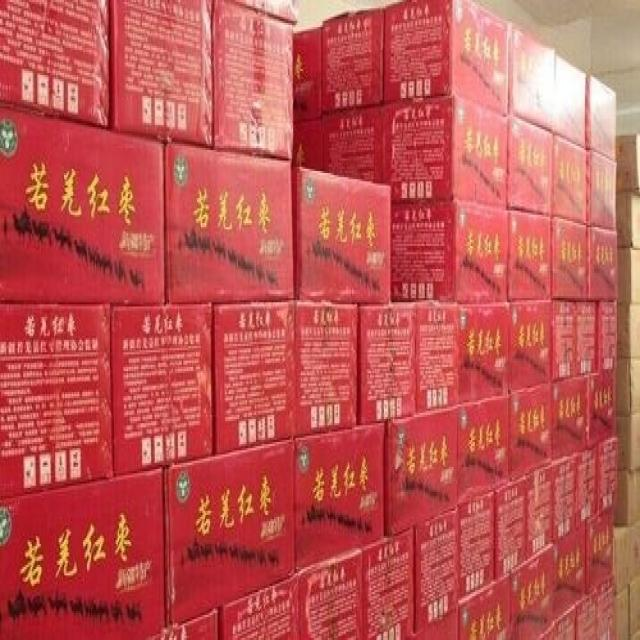box: (1, 106, 165, 304), (168, 440, 296, 630), (0, 304, 114, 500), (166, 144, 294, 302), (111, 304, 211, 475), (110, 2, 212, 146), (384, 2, 511, 115), (384, 98, 508, 211), (1, 0, 109, 127), (296, 423, 387, 571), (293, 169, 392, 302), (214, 2, 293, 161), (214, 300, 296, 450), (393, 204, 509, 302), (388, 407, 458, 534), (297, 300, 360, 436), (360, 302, 416, 423), (323, 10, 384, 113), (362, 527, 415, 640), (300, 550, 364, 638), (416, 507, 460, 634), (458, 400, 509, 504), (219, 575, 300, 638), (460, 304, 508, 407), (416, 302, 460, 411), (511, 25, 556, 131), (508, 117, 554, 215), (324, 108, 384, 183), (509, 384, 553, 486), (509, 300, 552, 396), (508, 208, 552, 300), (458, 492, 495, 600), (512, 546, 554, 640), (494, 477, 527, 584), (554, 525, 588, 623), (460, 575, 511, 640), (553, 375, 588, 463), (553, 138, 588, 225), (554, 56, 586, 148), (294, 27, 323, 123), (553, 221, 588, 300), (526, 467, 552, 559), (588, 77, 616, 161), (589, 507, 616, 594), (552, 454, 577, 544), (588, 369, 617, 446), (550, 302, 577, 384), (589, 227, 618, 302), (589, 154, 617, 229), (577, 442, 599, 532), (150, 613, 219, 640), (617, 523, 640, 592), (577, 302, 598, 375), (598, 438, 618, 511), (293, 121, 321, 171), (598, 304, 618, 371), (596, 577, 617, 640), (617, 133, 639, 190), (417, 611, 460, 640), (618, 415, 640, 471), (618, 194, 640, 248), (618, 250, 640, 304), (617, 473, 640, 523), (618, 361, 639, 415), (620, 304, 639, 356), (544, 609, 576, 638), (577, 592, 596, 640), (618, 586, 630, 638), (630, 577, 640, 638)
